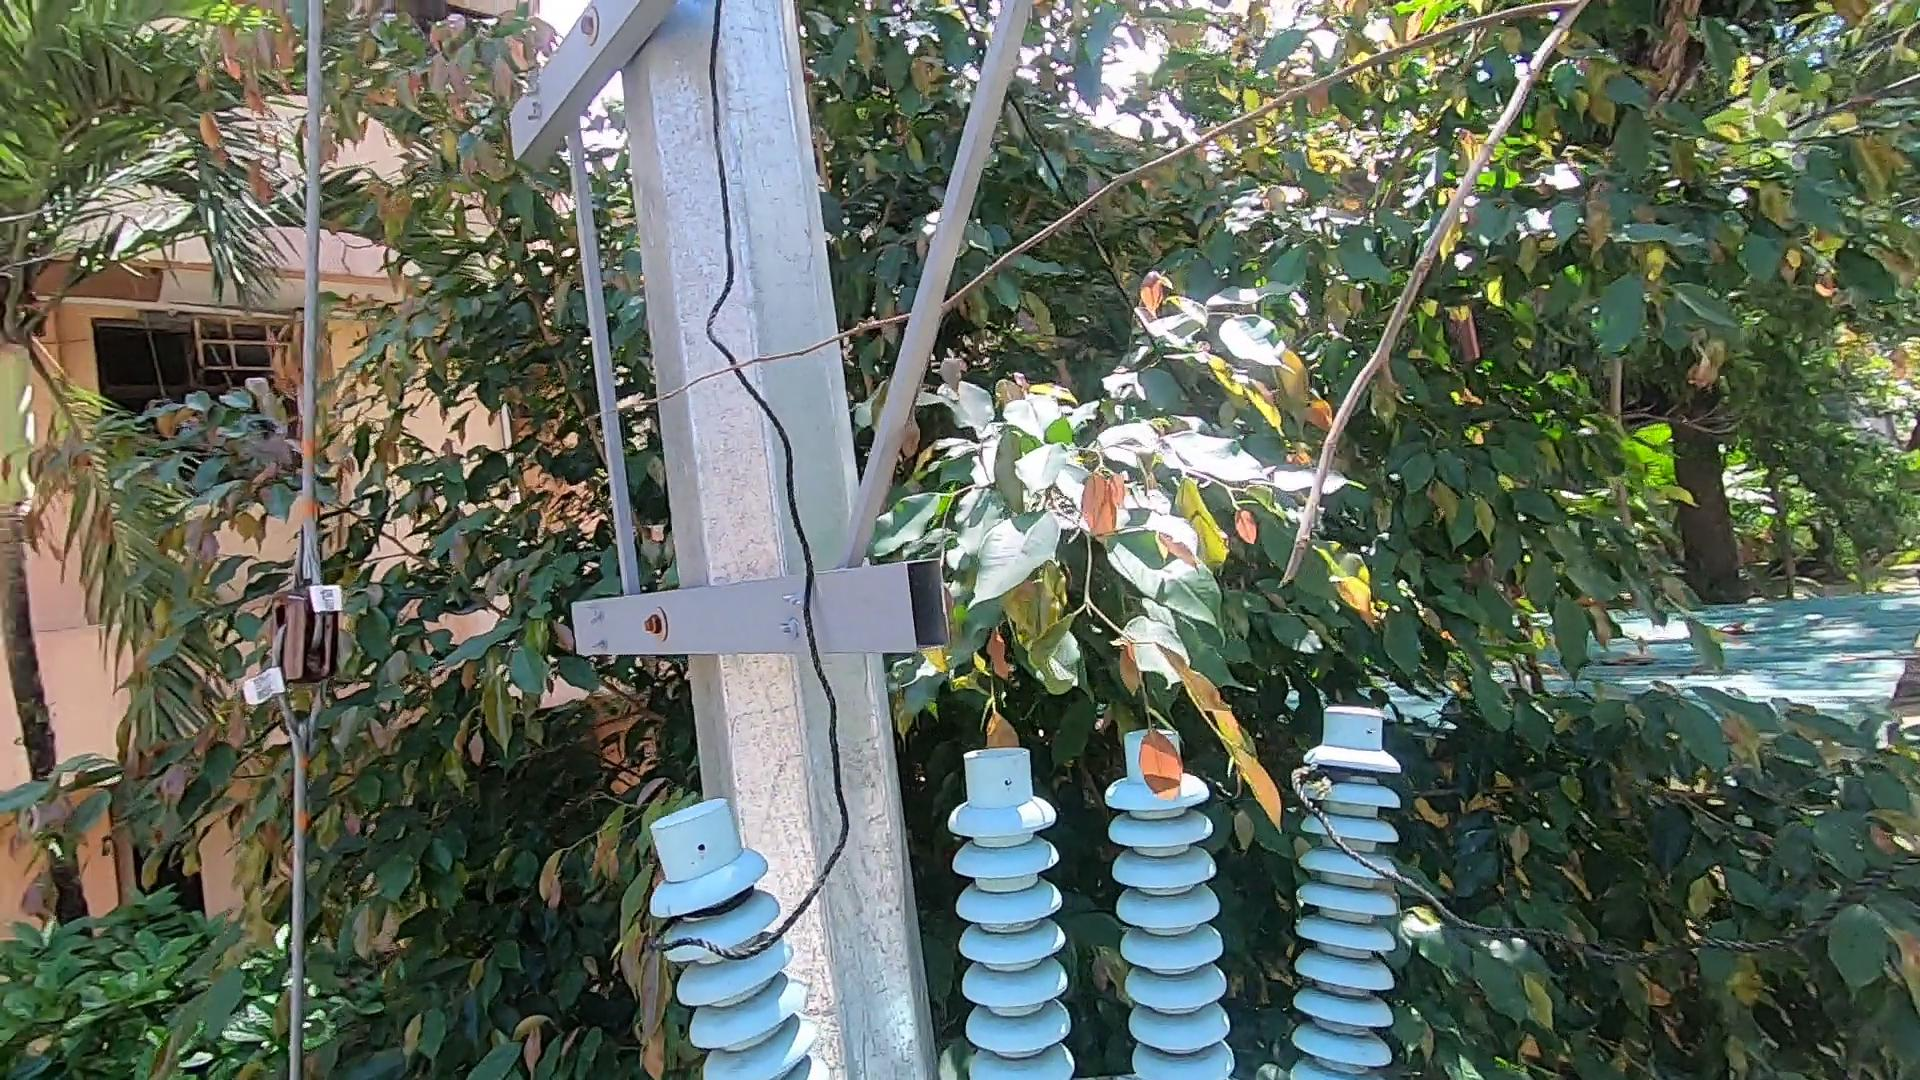branch with leaves: (1129, 682, 1287, 824)
tree branch: (458, 55, 1581, 603)
